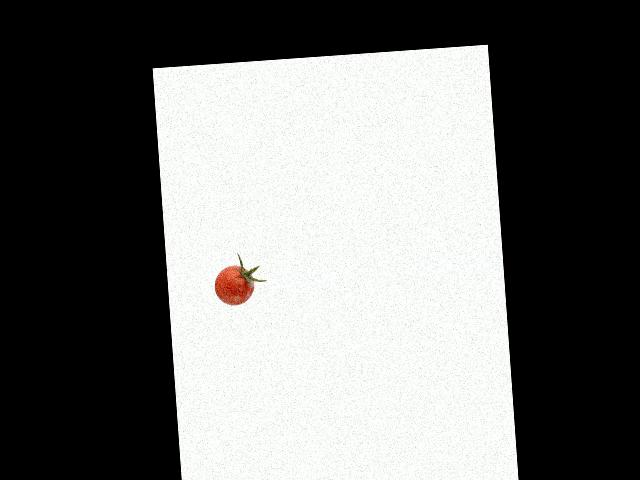tomato: (213, 265, 255, 307)
